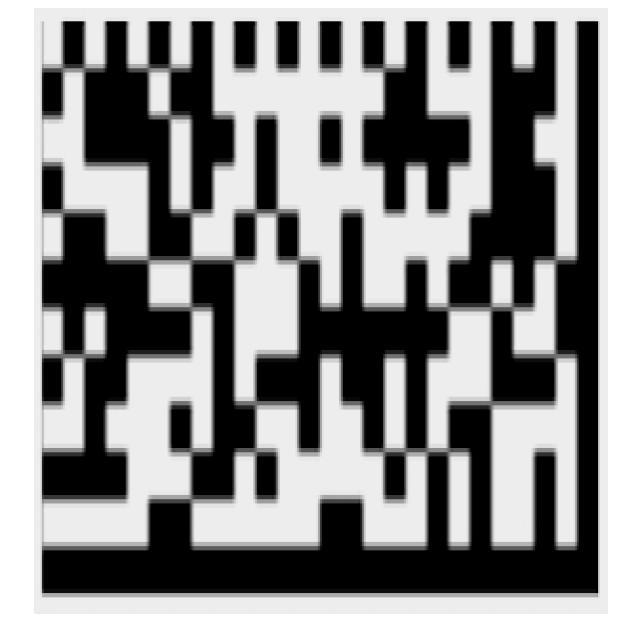Data-Matrix: (34, 9, 608, 615)
